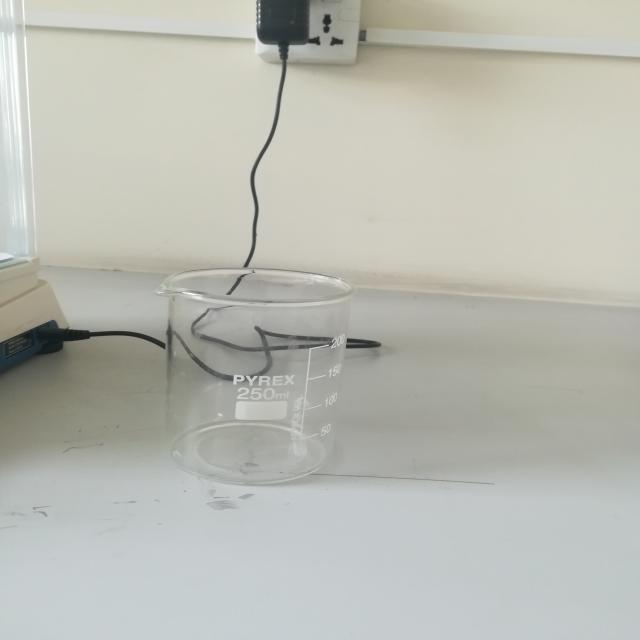Beaker: (138, 247, 394, 500)
